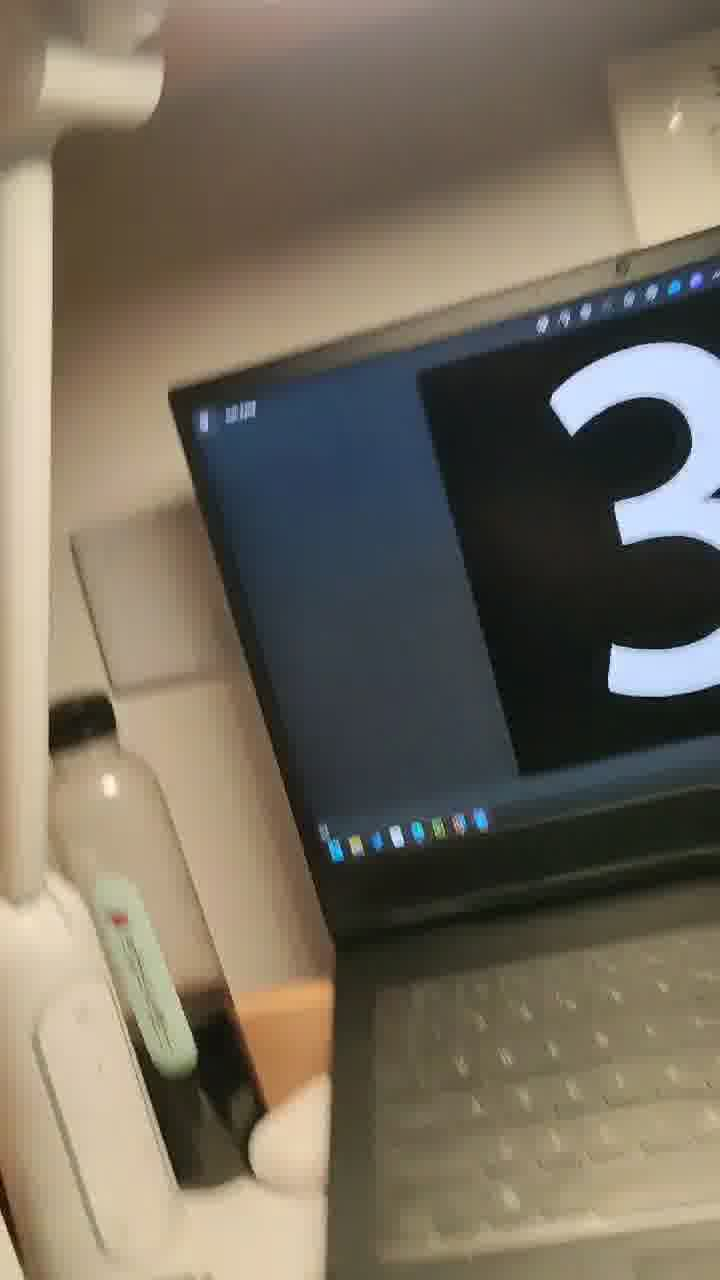three: (500, 292, 720, 871)
